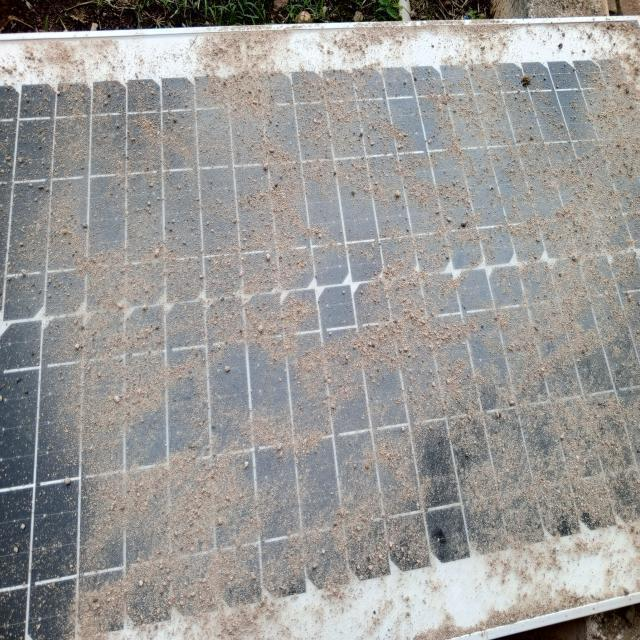Anomaly Solar Panel: (15, 64, 639, 567)
Surface Contaminant: (15, 64, 639, 567)
